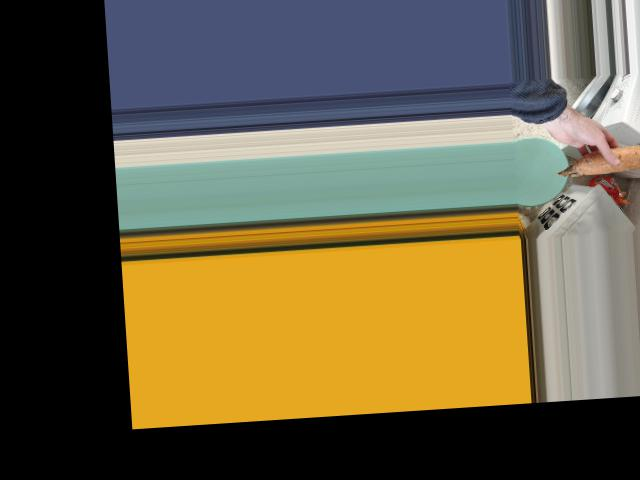sweet_potato: (560, 143, 640, 175)
